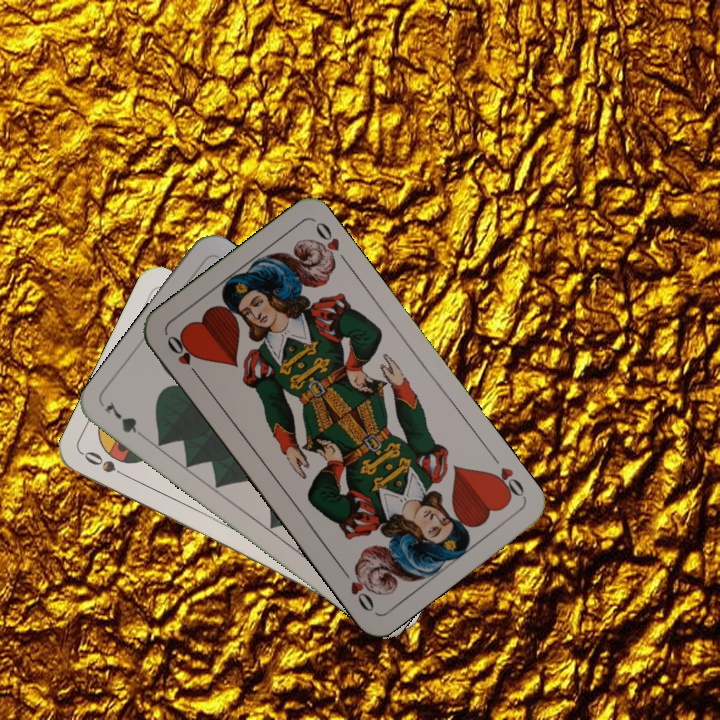G7: (100, 398, 151, 444)
HO: (485, 449, 528, 504), (162, 331, 203, 382)
SO: (79, 447, 135, 483)
